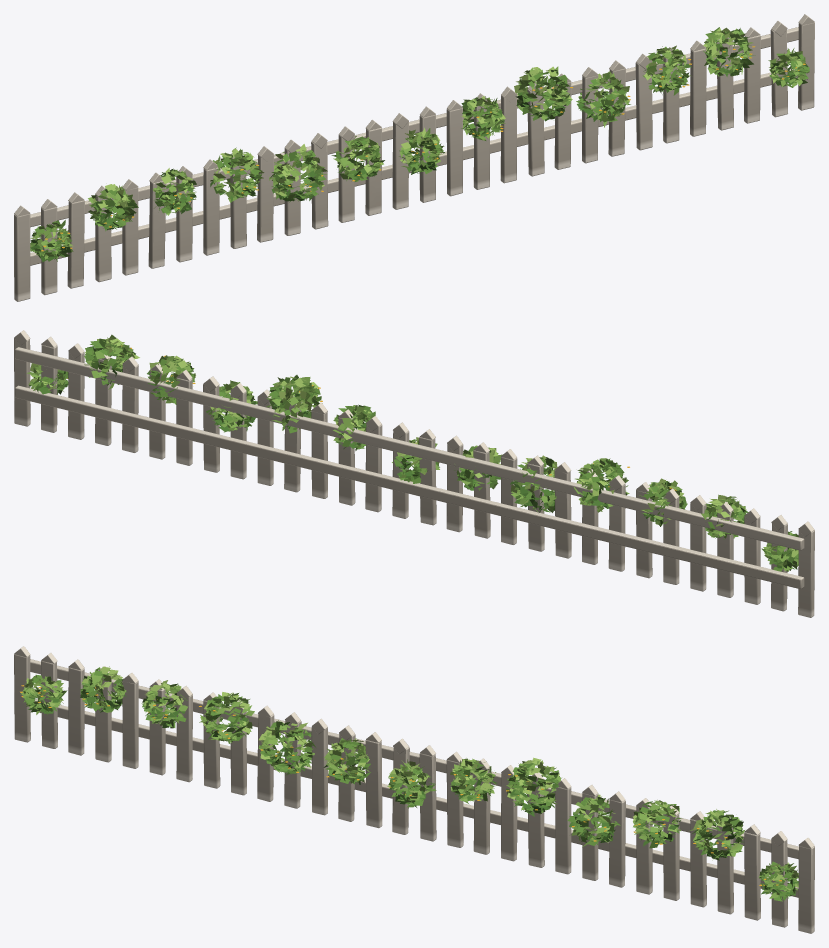
File: unlock-flowerfence-ha.glb
The picture shows the model from 3 angles, top to bottom: view 1: azimuth 30°, elevation 25°; view 2: azimuth 150°, elevation 25°; view 3: azimuth 330°, elevation 25°; orthographic projection.
Visible parts, largest first — view 1: unlock-flowerfence-static; view 2: unlock-flowerfence-static; view 3: unlock-flowerfence-static.
Part boxes in pixels (x1=…): unlock-flowerfence-static: x1=14, y1=14, x2=814, y2=301; unlock-flowerfence-static: x1=14, y1=330, x2=814, y2=617; unlock-flowerfence-static: x1=14, y1=646, x2=814, y2=933.
Bounding box in the file's own units: 3.25 × 0.4179 × 0.2157.
Materials: 11 (2 with a texture image).
